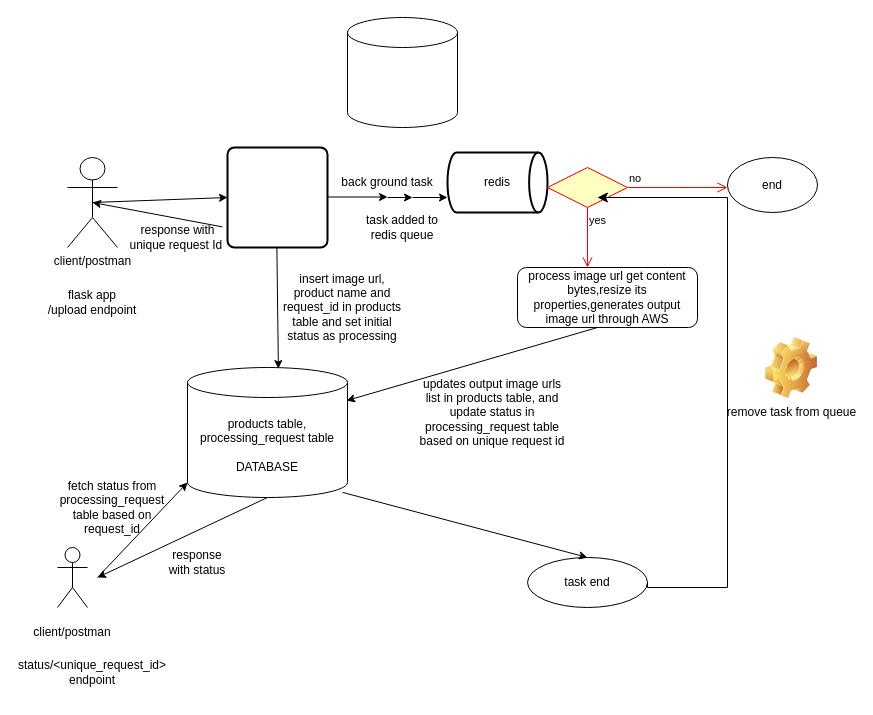
Some shapes in this 873 by 715 pixel diagram are drawn without their labels. Here are the shapes that lost their labels. From the top down, the centre of each, then its label:
point (277, 197): Process CSV File and generates unique request id for File
point (587, 187): task in queue
point (72, 577): Actor
